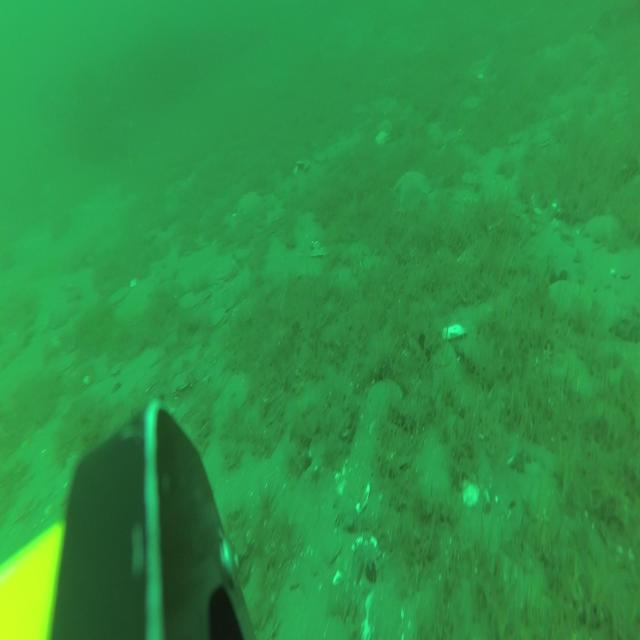scallop: (548, 280, 593, 324), (369, 376, 402, 421), (585, 213, 619, 244), (224, 377, 250, 412), (180, 290, 202, 313), (108, 285, 130, 307), (210, 309, 228, 331), (58, 353, 76, 374)
starfish: (393, 170, 427, 215), (236, 189, 266, 224)
